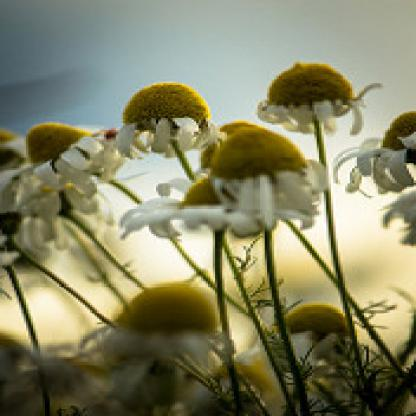ASTER: (4, 41, 413, 389)
